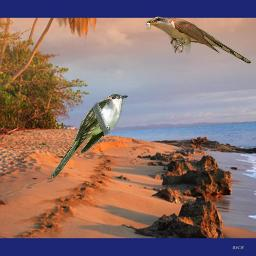Cuckoo: (50, 93, 128, 181), (144, 16, 251, 64)
